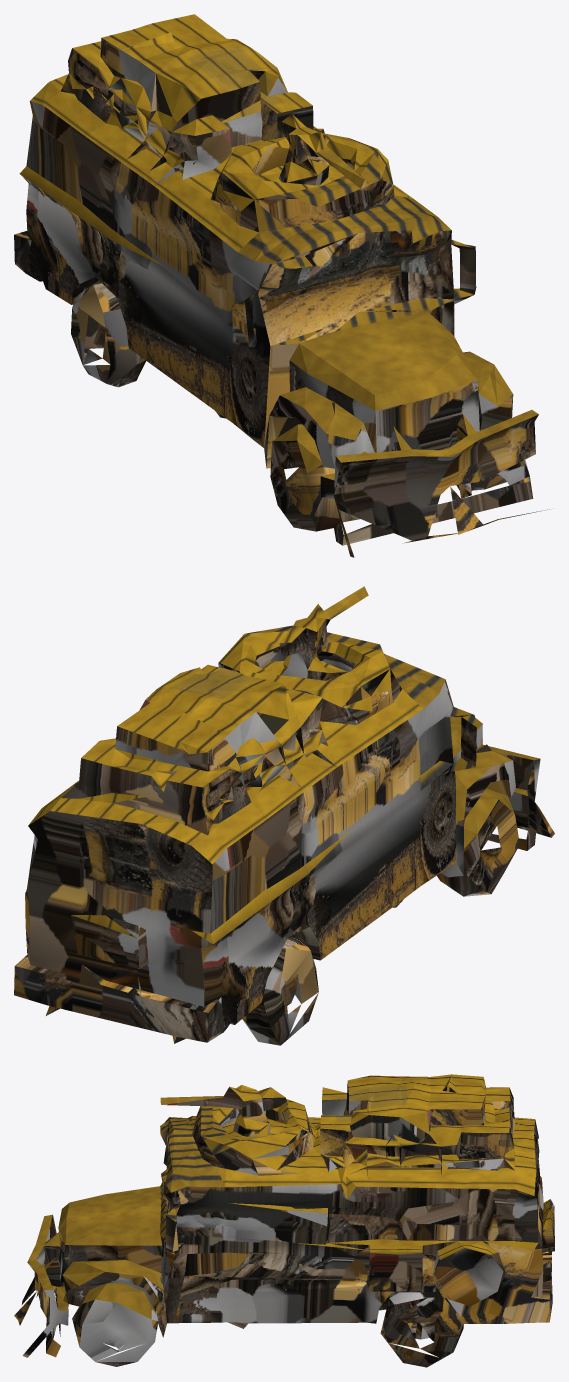
The model's file is bus.glb.
The picture shows the model from 3 angles, top to bottom: view 1: azimuth 30°, elevation 25°; view 2: azimuth 150°, elevation 25°; view 3: azimuth 270°, elevation 25°; orthographic projection. The views are drawn at different scales.
Size of the model in its own units: 0.7875 by 0.9925 by 1.97.
Materials: 1 (1 with a texture image).
